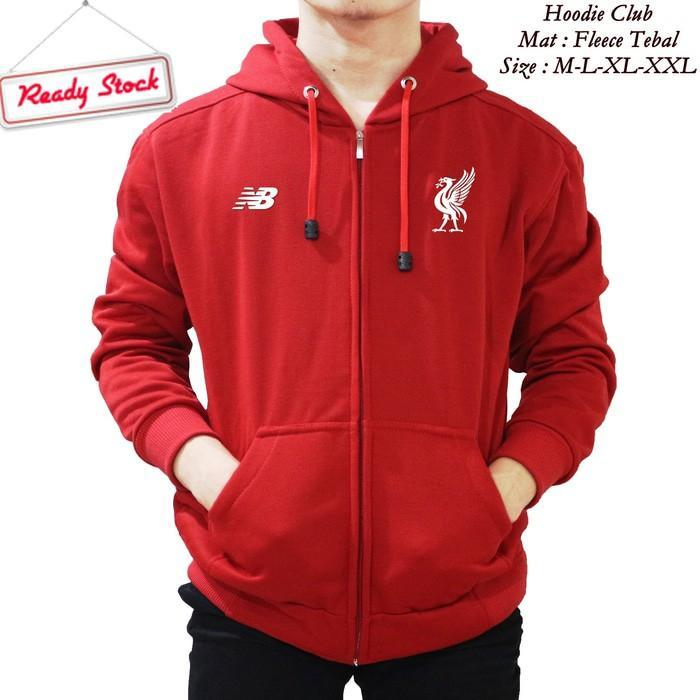sweater: (90, 23, 622, 658)
